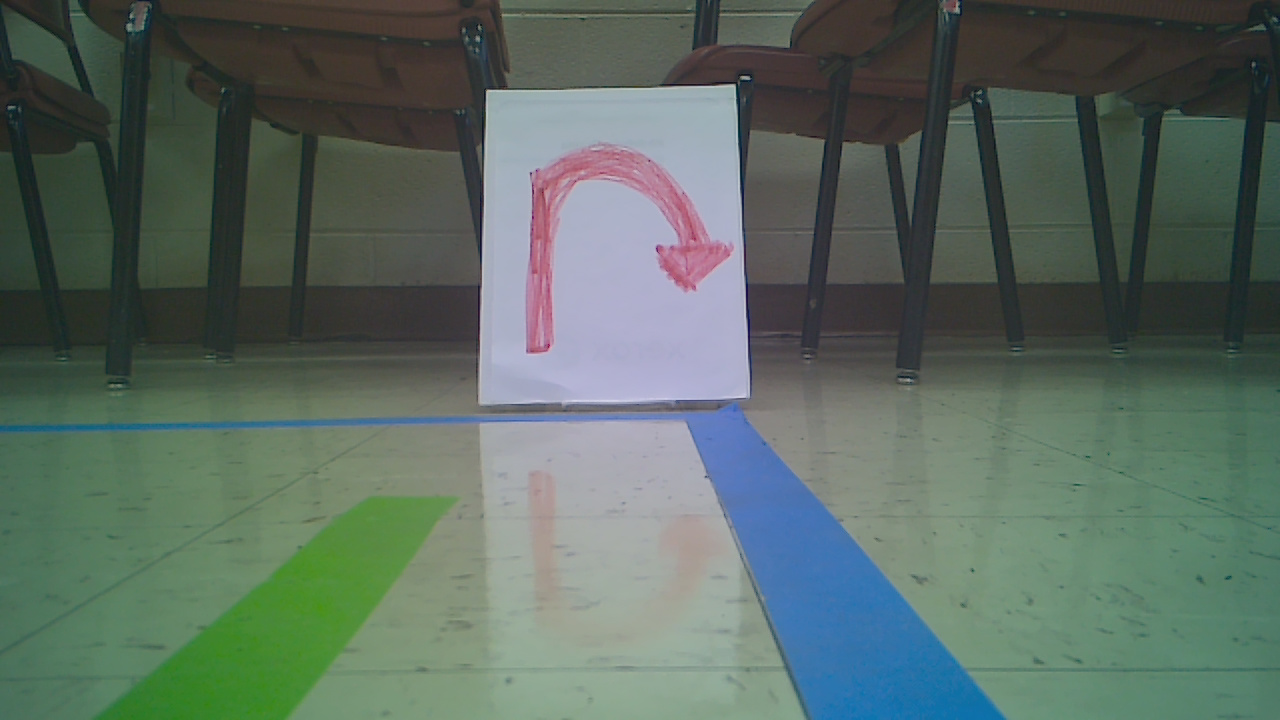greenline: (108, 495, 447, 717)
uturn: (521, 141, 732, 354)
